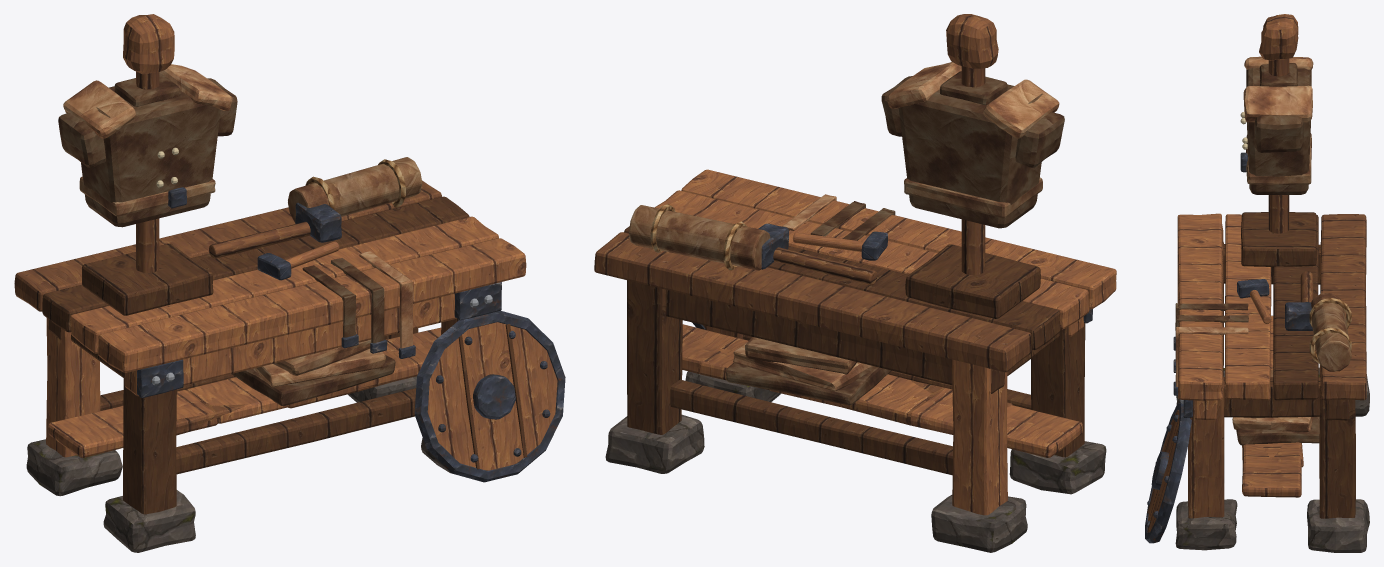
The model's file is armoury_bench.glb.
The picture shows the model from 3 angles, left to right: view 1: azimuth 30°, elevation 25°; view 2: azimuth 150°, elevation 25°; view 3: azimuth 270°, elevation 25°; orthographic projection. The views are drawn at different scales.
Visible parts, largest first — view 1: model; view 2: model; view 3: model.
Boxes of the visible parts, box(x1,y1,x2,y2) form: model: box(14, 14, 565, 552); model: box(594, 14, 1116, 552); model: box(1145, 14, 1369, 552).
Size of the model in its own units: 1.86 by 1.92 by 0.9575.
Materials: 13 (11 with a texture image).
